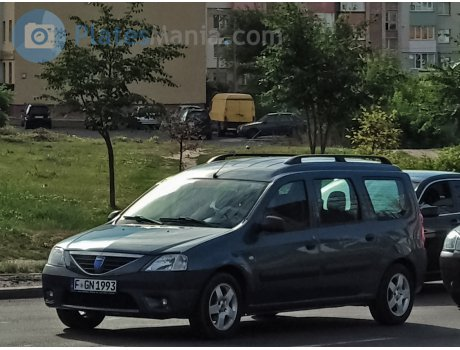License Plates: (72, 279, 112, 287)
